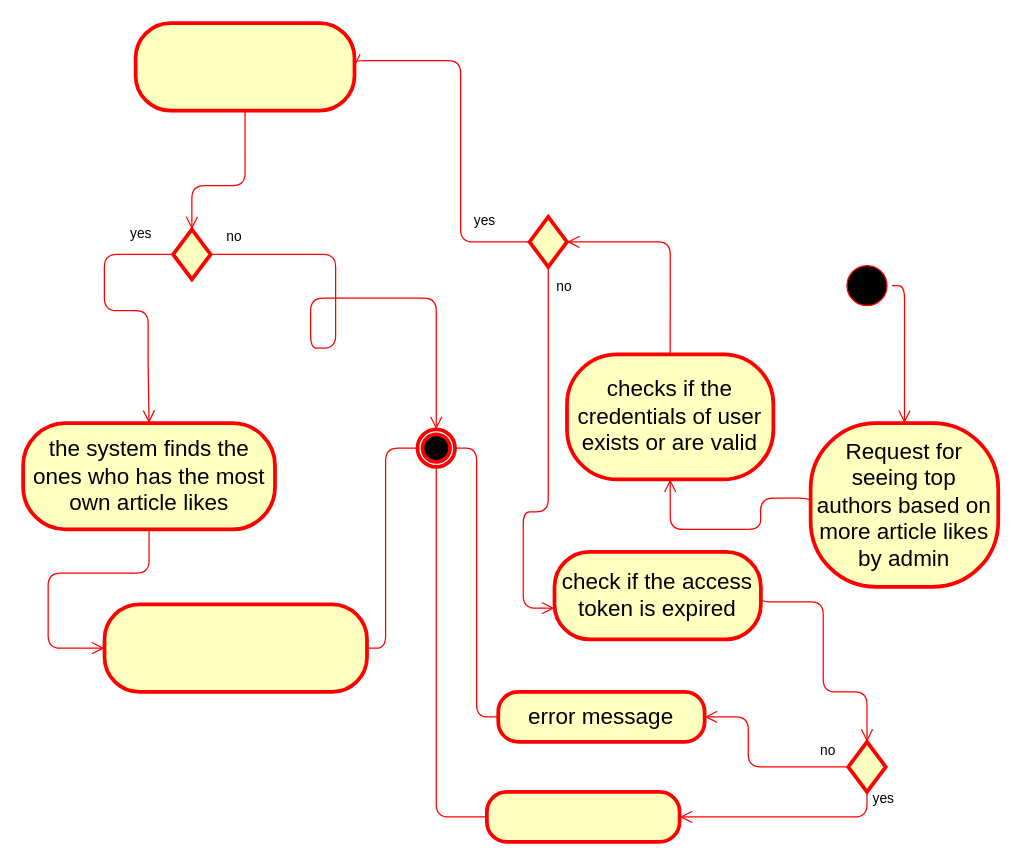
This 1023x865 diagram has some shape labels left out. The shapes that lost their labels are listed below. From the top down, each one's box as (x1, y1, x2, y2) in pixels, then its label:
(133, 21, 356, 112): checks if the user is a valid admin
(102, 602, 368, 693): retrieve them and show them in web UI
(484, 789, 681, 843): need refresh
